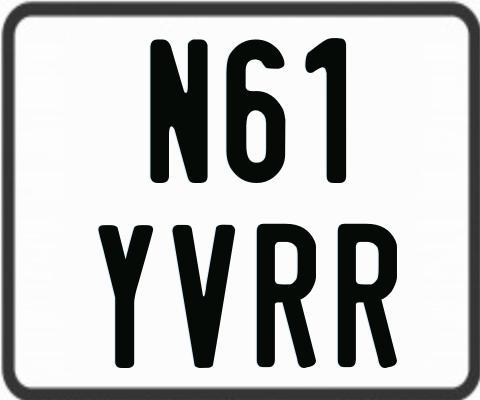1: (305, 37, 348, 183)
6: (226, 40, 286, 183)
N: (148, 38, 212, 182)
R: (338, 221, 403, 370), (256, 222, 315, 372)
V: (171, 222, 236, 369)
Y: (96, 223, 151, 369)
